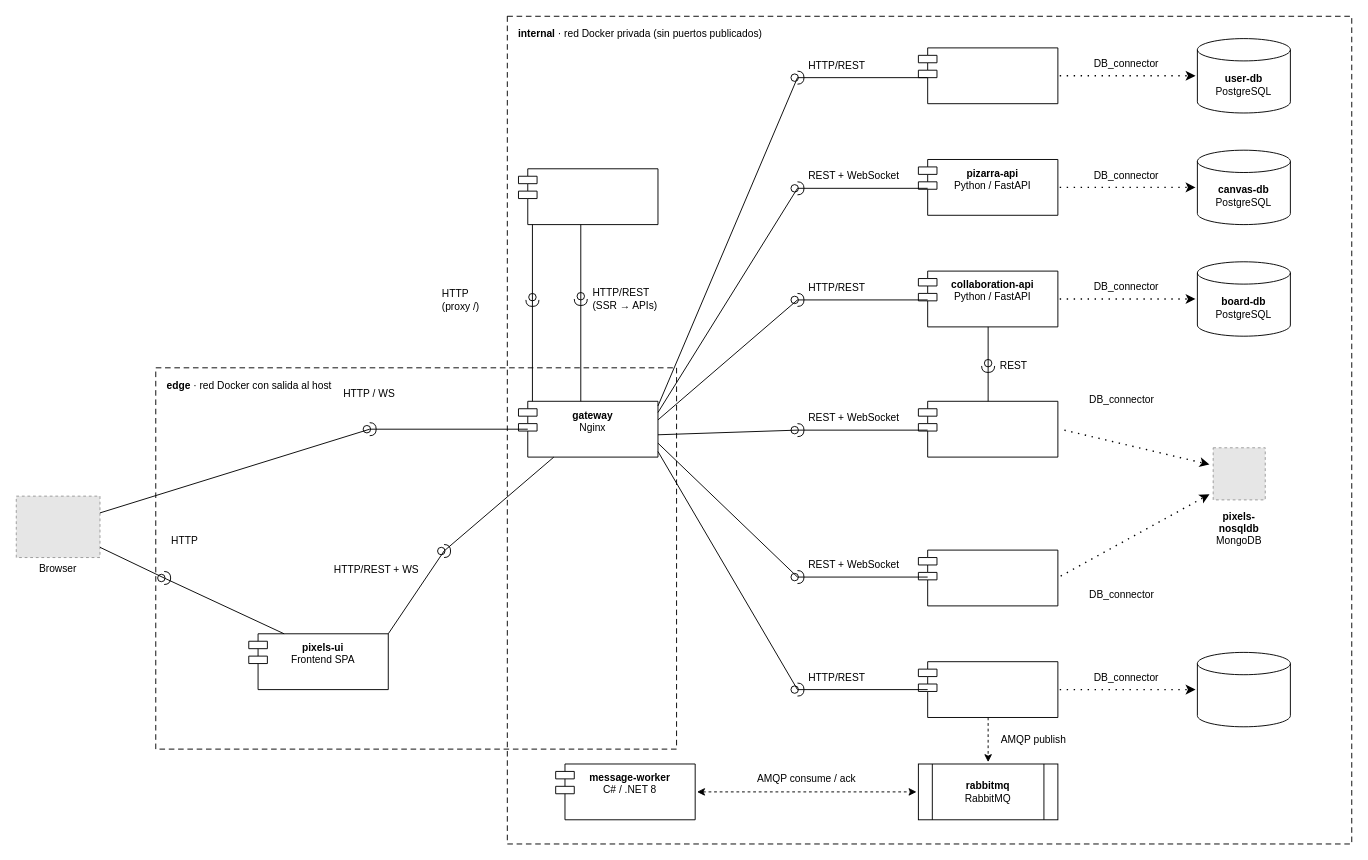
This 1368x860 diagram has some shape labels left out. Grey dashed boxes stand in for pictures. Here are the shapes that lost their labels. From the top down, the centre of each, then its label:
[987,75]: auth-api Go
[588,196]: web-ssr Node.js / TypeScript
[987,428]: chat-api Java / Spring Boot
[987,577]: pixels-api Rust / Axum
[987,689]: notification-api C# / .NET 8
[1243,689]: notification-db PostgreSQL
